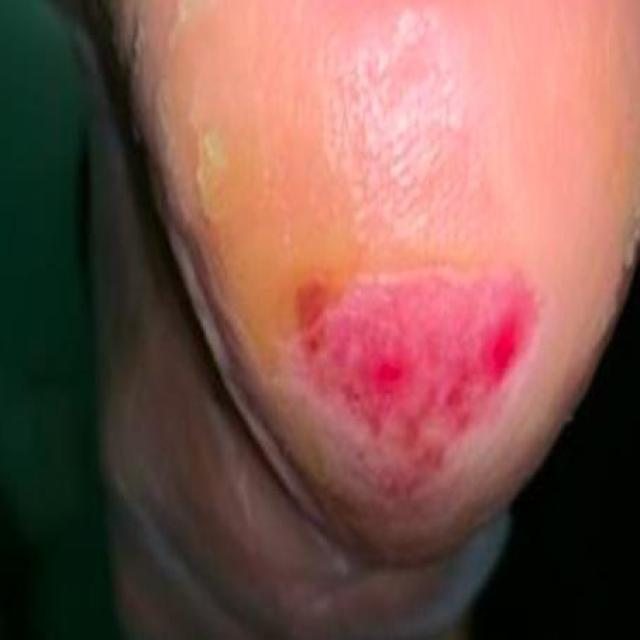stage-2: (296, 275, 535, 474)
